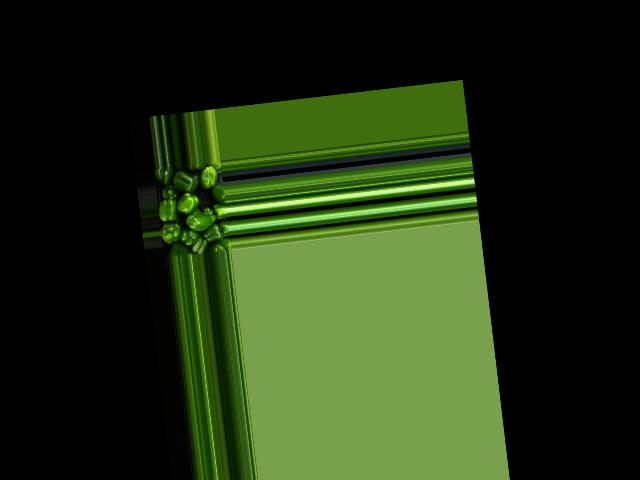bell_pepper: (171, 240, 192, 257)
